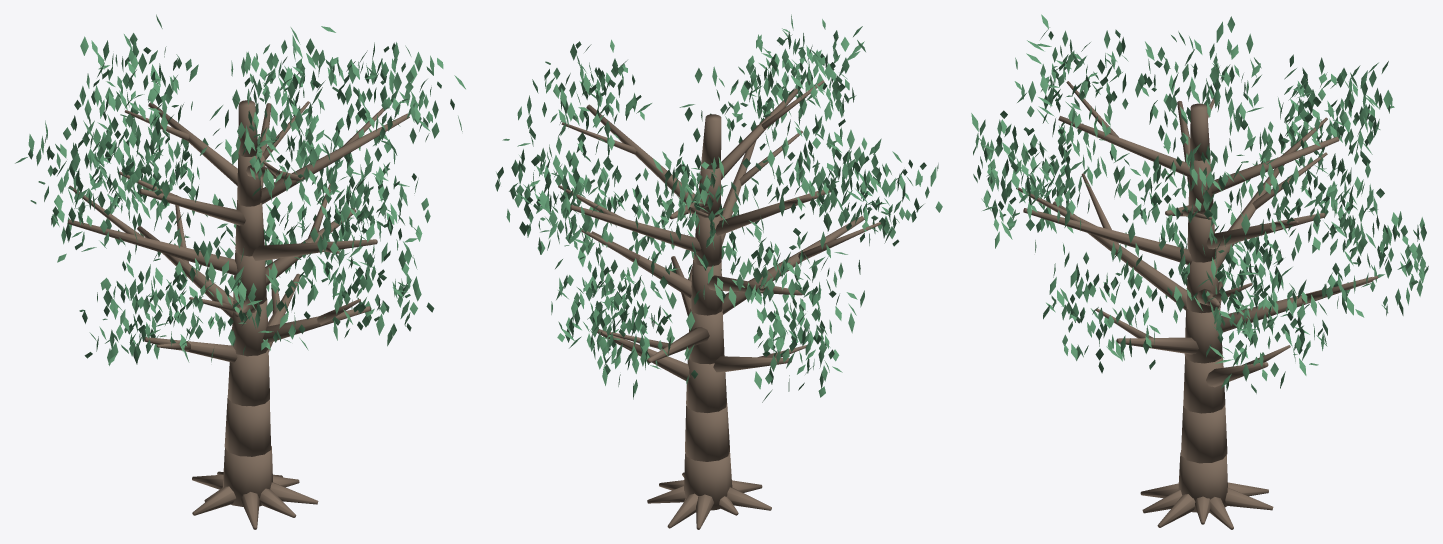
Rendered from forest_tree_2.glb.
3 renders of one model, left to right at view 1: azimuth 30°, elevation 25°; view 2: azimuth 150°, elevation 25°; view 3: azimuth 270°, elevation 25°, orthographic. The views are drawn at different scales.
Visible parts, largest first — view 1: ForestTree2; view 2: ForestTree2; view 3: ForestTree2.
Part boxes in pixels (box(x1,y1,x2,y2)): ForestTree2: box(15, 14, 465, 529); ForestTree2: box(495, 14, 942, 529); ForestTree2: box(971, 14, 1428, 529).
Size of the model in its own units: 7.29 by 9 by 8.15.
